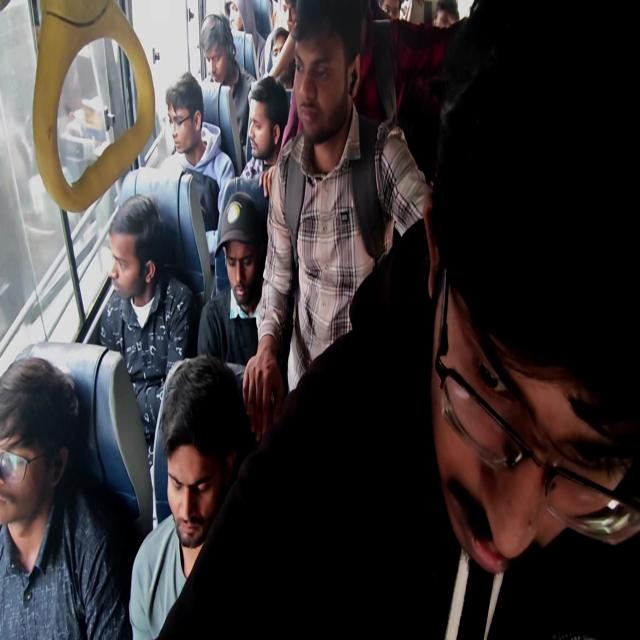person: (448, 103, 634, 578), (138, 347, 258, 531), (0, 367, 99, 583), (213, 195, 288, 318), (109, 196, 187, 296), (283, 14, 346, 131), (164, 96, 224, 180), (216, 0, 262, 45), (198, 24, 236, 76), (242, 107, 276, 164), (269, 4, 313, 40), (268, 36, 296, 81), (432, 9, 454, 50), (371, 0, 418, 19)
